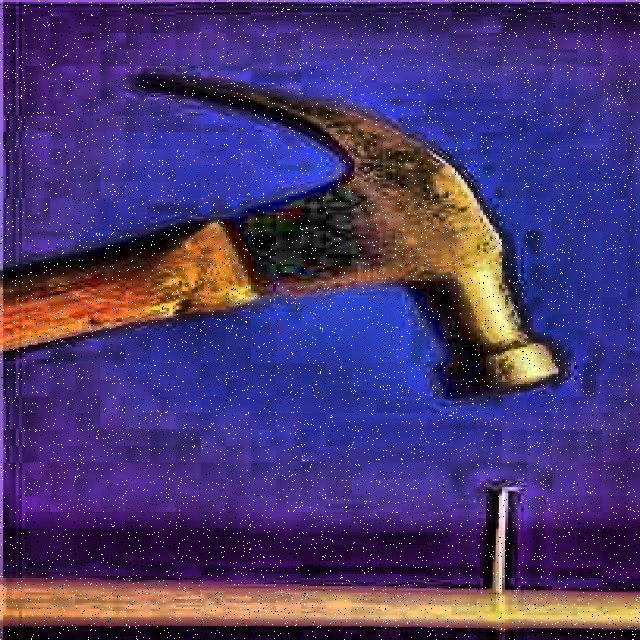hammer: (0, 71, 564, 403)
